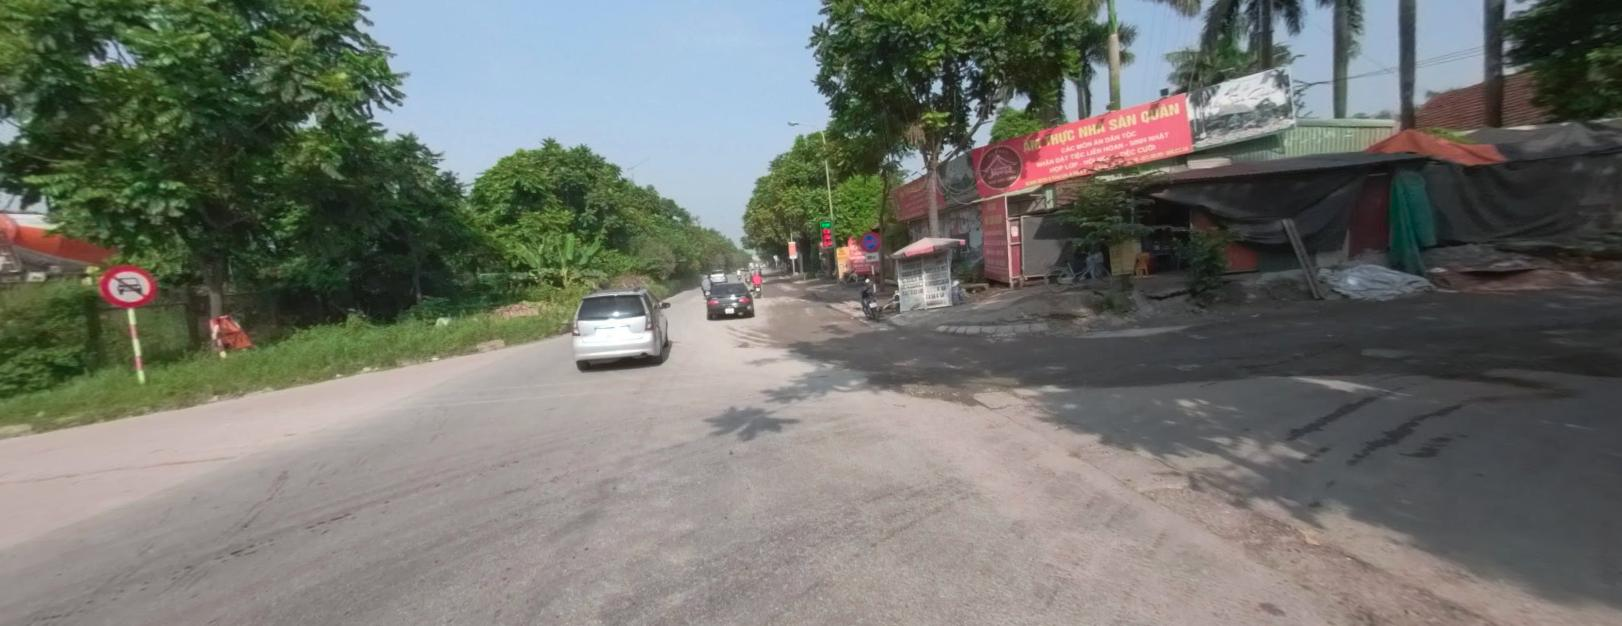Cam con lai: (101, 265, 155, 304)
Cam dung va do: (860, 231, 880, 250)
